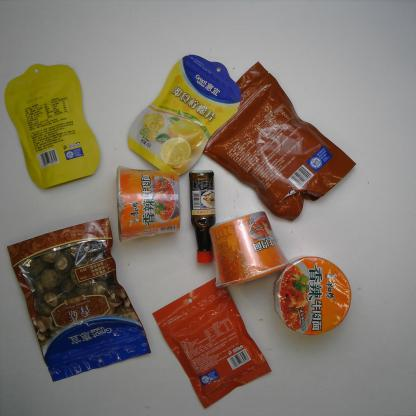Dried Food: (202, 59, 357, 224), (5, 217, 150, 382)
Dried Fruit: (152, 276, 272, 412), (127, 54, 242, 179), (4, 63, 101, 192)
Instant Noodles: (273, 254, 353, 337), (207, 209, 289, 288), (115, 164, 182, 244)
Seasoner: (187, 169, 217, 265)
